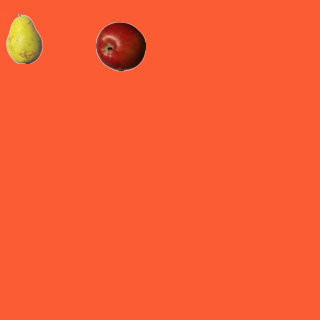Apple Braeburn: (95, 21, 145, 71)
Pear Monster: (0, 13, 49, 63)
